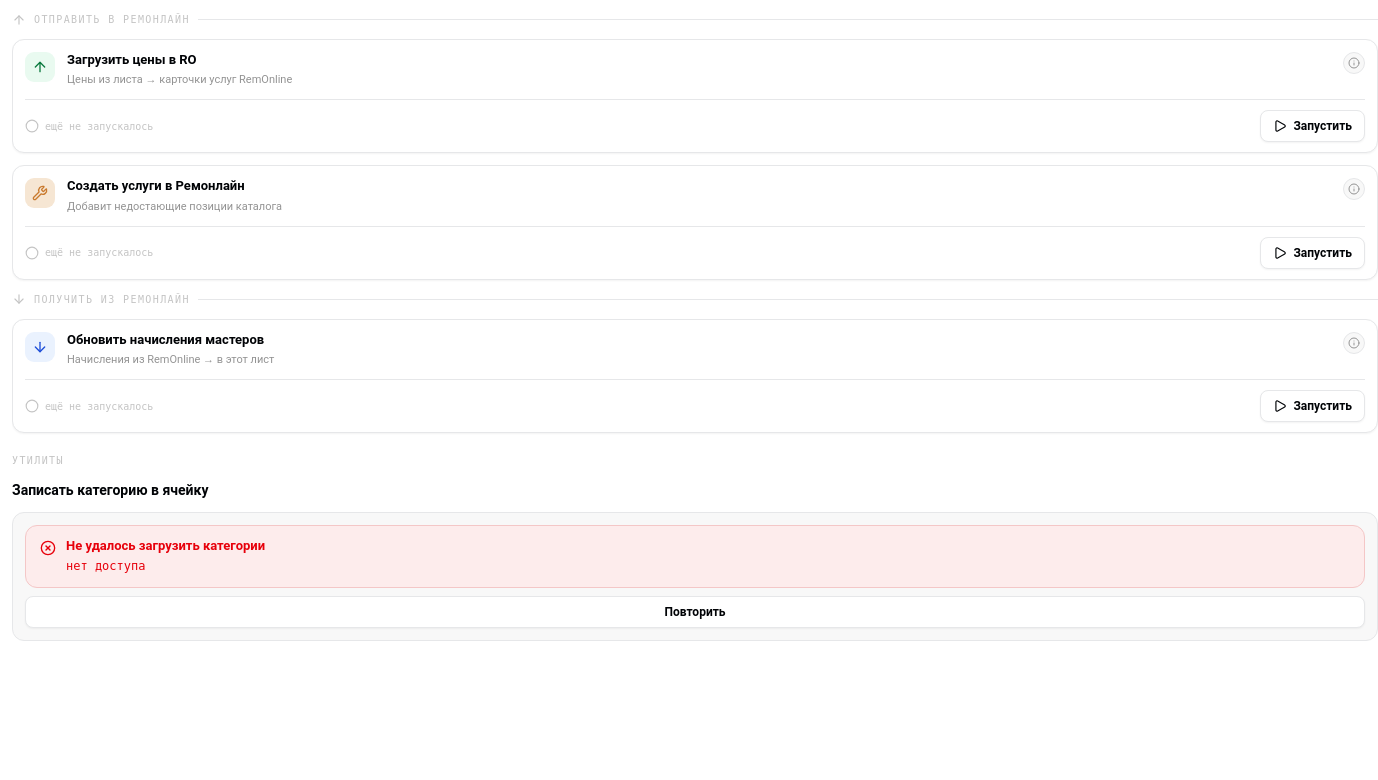
Test: RemonlinePanel › FR8: shows a retry button when the category tree fails to load
The width and height of the screenshot is (1378, 780).
Expected: the message with test id "ro-category-load-error" shows "нет доступа", [66,559,146,573]
Step 1. Click the button "Повторить" → {"x": 695, "y": 612}, box [25,596,1365,628]
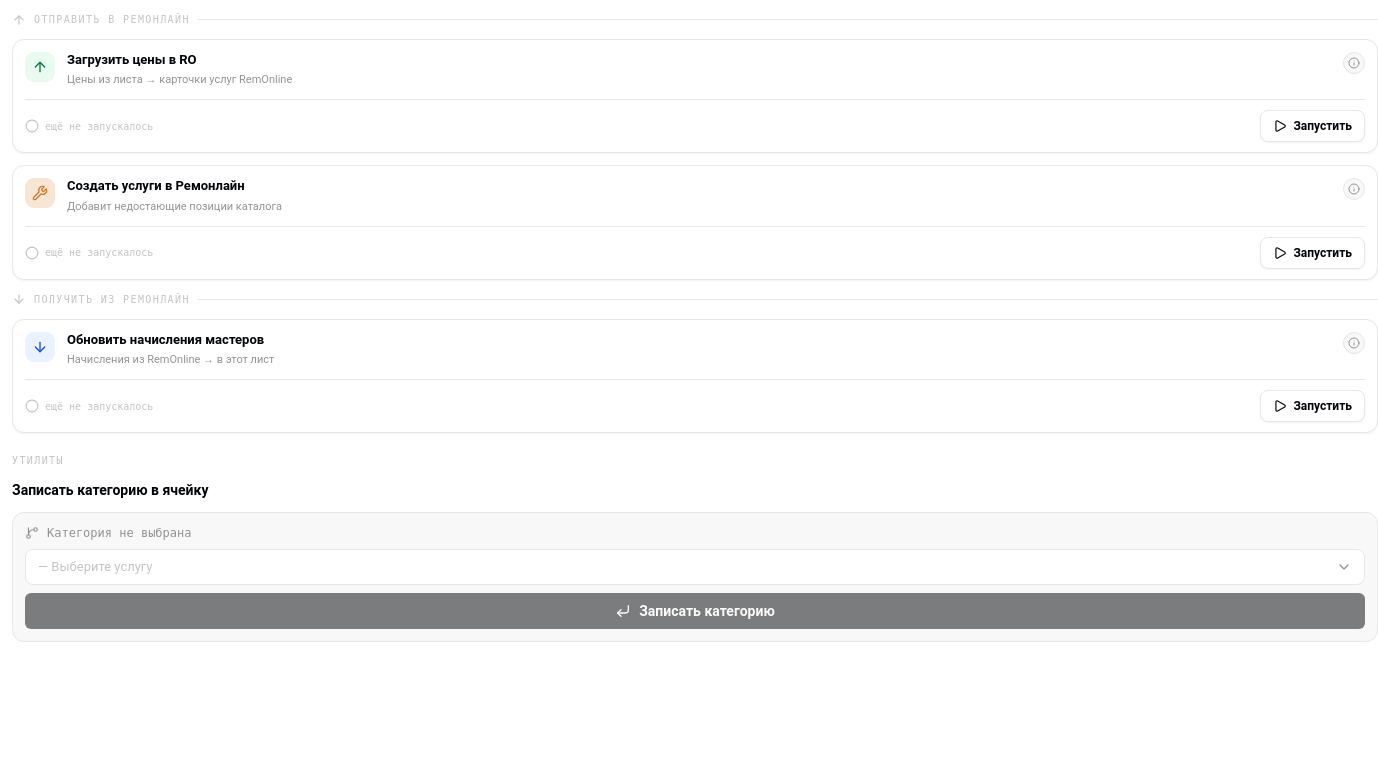
Expected: the dropdown named "Категория, уровень 1" is shown, [25,549,1365,585]
